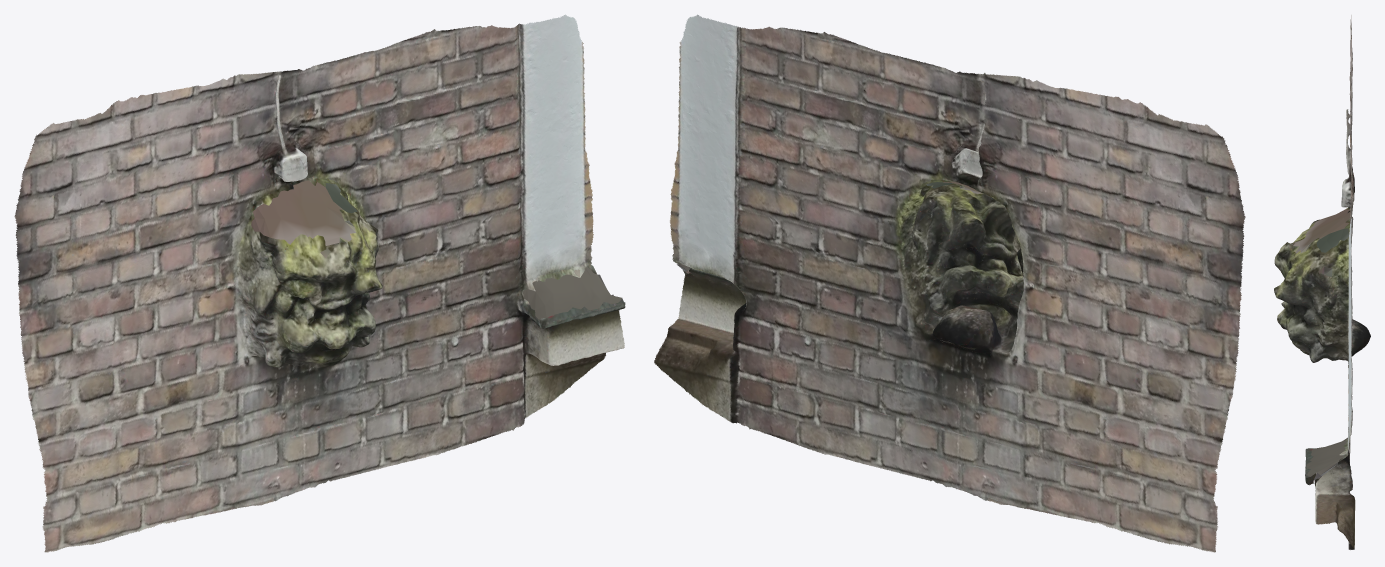
Rendered from grinkopf_opt.glb.
3 renders of one model, left to right at view 1: azimuth 30°, elevation 25°; view 2: azimuth 150°, elevation 25°; view 3: azimuth 270°, elevation 25°, orthographic. The views are drawn at different scales.
Visible parts, largest first — view 1: Object_2; view 2: Object_2; view 3: Object_2.
Boxes of the visible parts, x1,y1,x2,y2 form: Object_2: (14, 14, 625, 552); Object_2: (654, 14, 1245, 552); Object_2: (1274, 15, 1370, 549).
Size of the model in its own units: 4.66 by 3.31 by 0.7947.
1 material, 1 textured.
